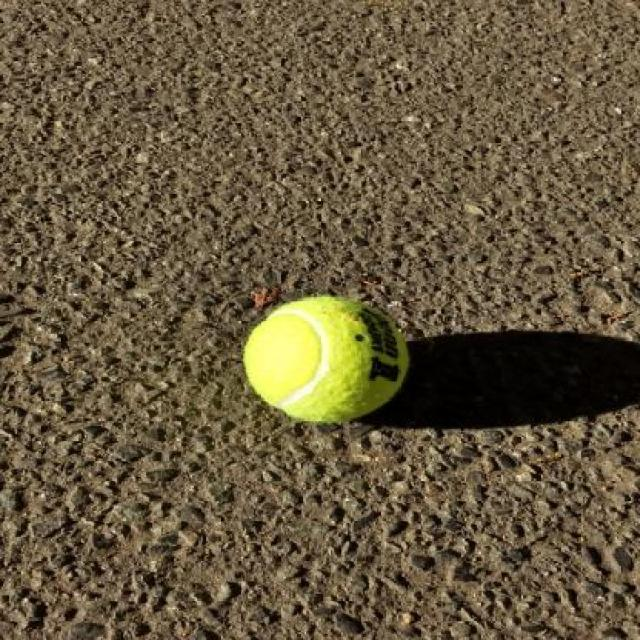Tennis_Ball: (240, 294, 411, 424)
